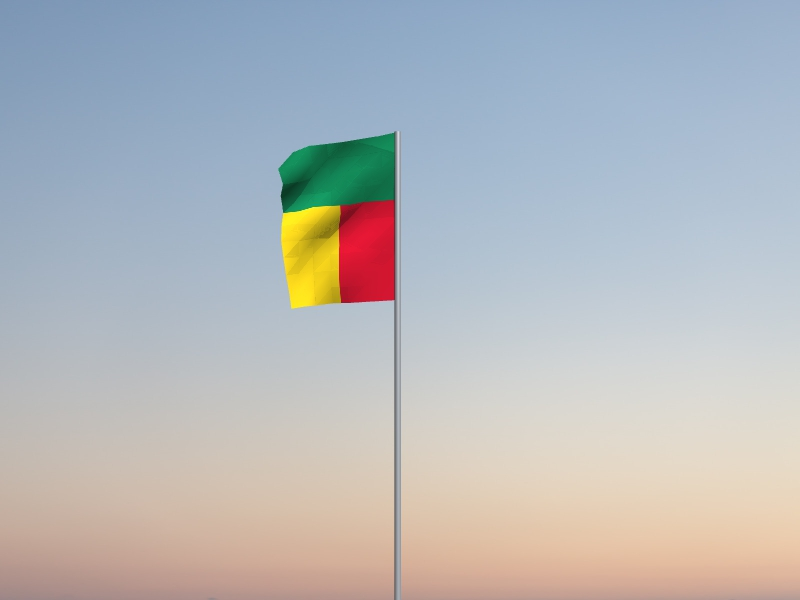bj: (277, 134, 396, 311)
